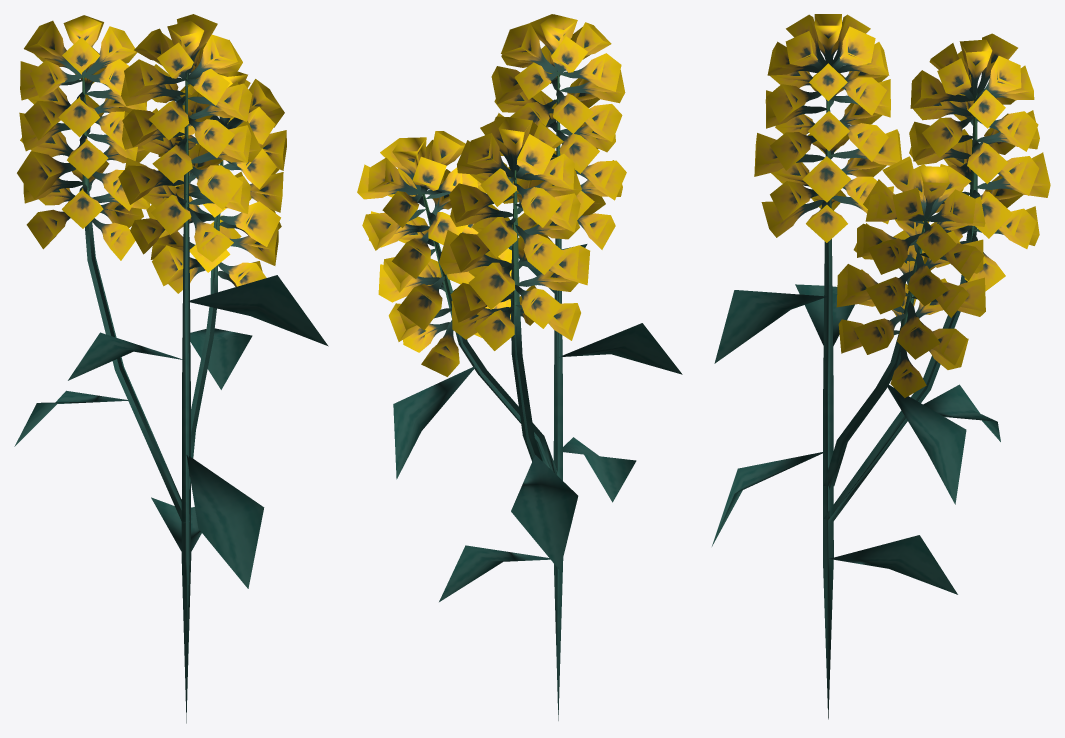
Rendered from sm_flower_01_B.fbx.
3 renders of one model, left to right at view 1: azimuth 30°, elevation 25°; view 2: azimuth 150°, elevation 25°; view 3: azimuth 270°, elevation 25°, orthographic.
Parts seen in each view (by area): view 1: sm_flower_01_B; view 2: sm_flower_01_B; view 3: sm_flower_01_B.
Boxes of the visible parts, x1=… form: sm_flower_01_B: x1=14, y1=14, x2=328, y2=723; sm_flower_01_B: x1=357, y1=14, x2=682, y2=720; sm_flower_01_B: x1=712, y1=14, x2=1050, y2=719.
Bounding box in the file's own units: 52.62 × 133 × 58.07.
1 material, 1 textured.
